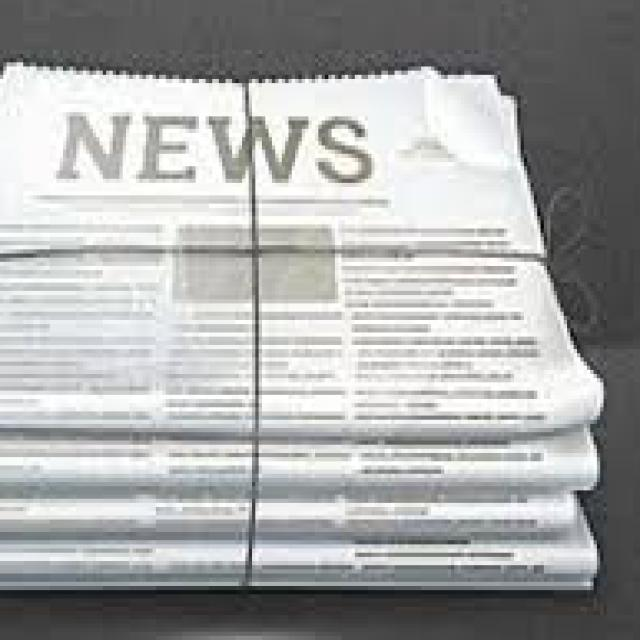organic: (0, 54, 610, 597)
